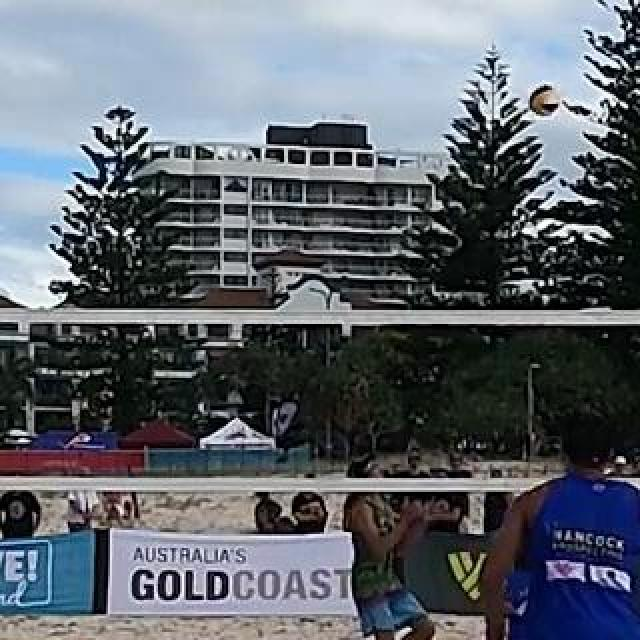volleyball: (530, 84, 562, 116)
